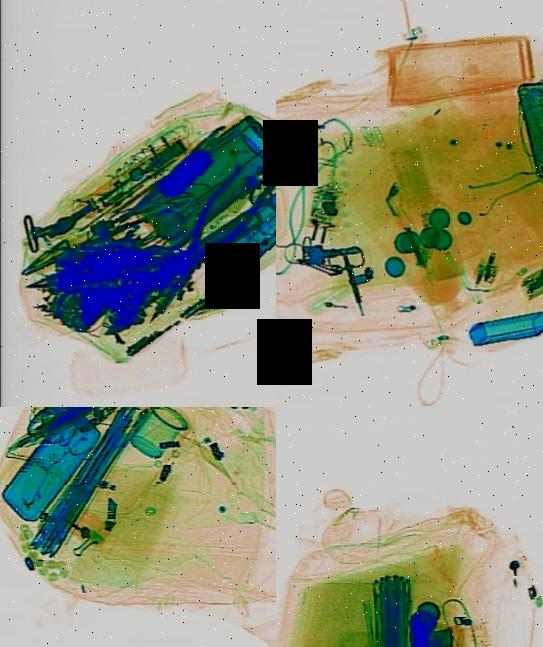Pliers: (153, 136, 276, 306)
Scissors: (322, 239, 378, 322)
